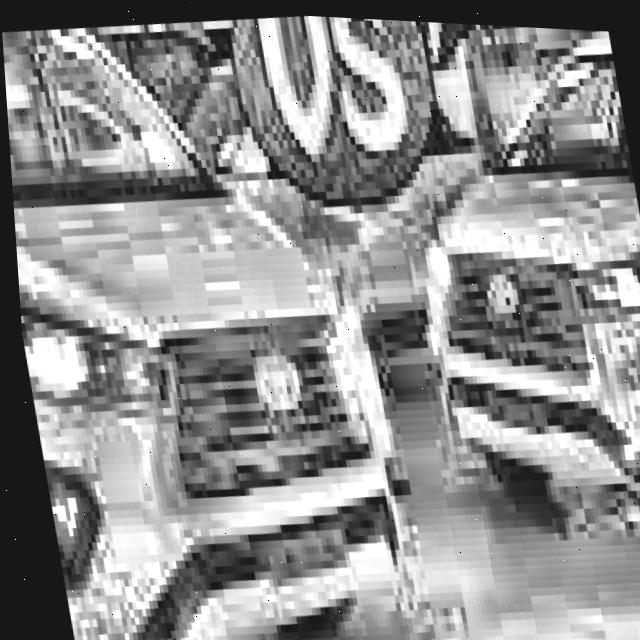light_vehicle: (0, 0, 417, 640), (373, 15, 640, 587)
